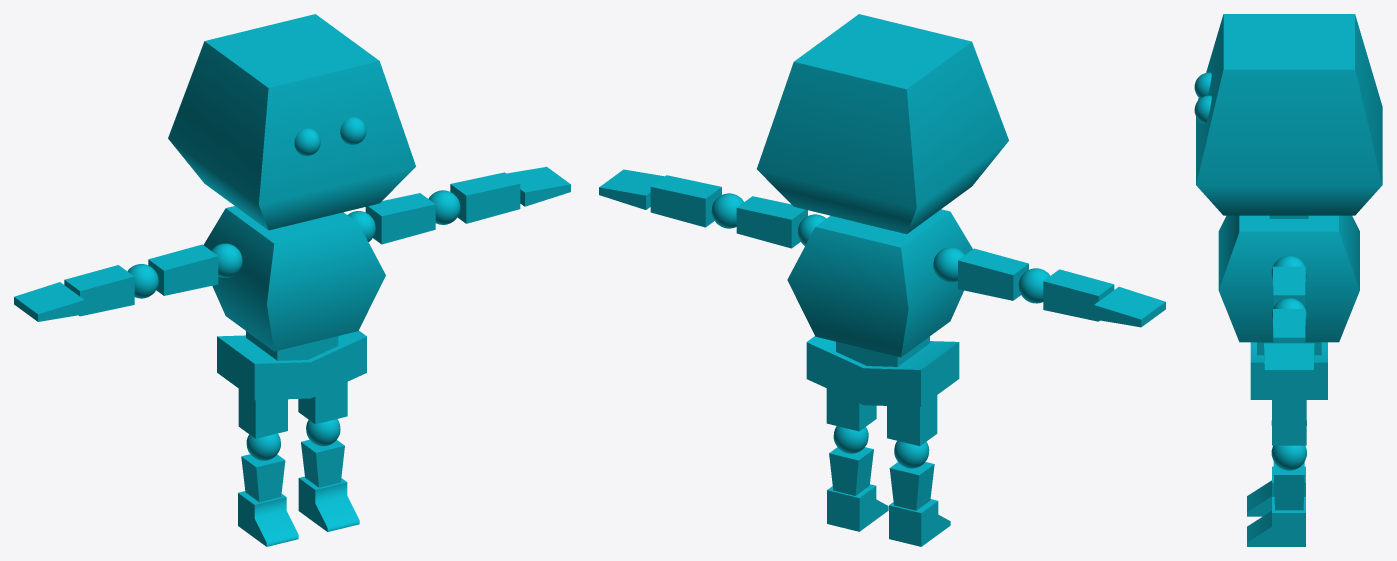
File: ProjectionBlockout.fbx
The picture shows the model from 3 angles, left to right: view 1: azimuth 30°, elevation 25°; view 2: azimuth 150°, elevation 25°; view 3: azimuth 270°, elevation 25°; orthographic projection. The views are drawn at different scales.
Visible parts, largest first — view 1: ProjectionBlockout; view 2: ProjectionBlockout; view 3: ProjectionBlockout.
Part boxes in pixels (bbox=[...]): ProjectionBlockout: bbox=[14, 14, 570, 546]; ProjectionBlockout: bbox=[599, 14, 1165, 546]; ProjectionBlockout: bbox=[1194, 14, 1382, 546].
Bounding box in the file's own units: 180 × 151 × 53.54.
